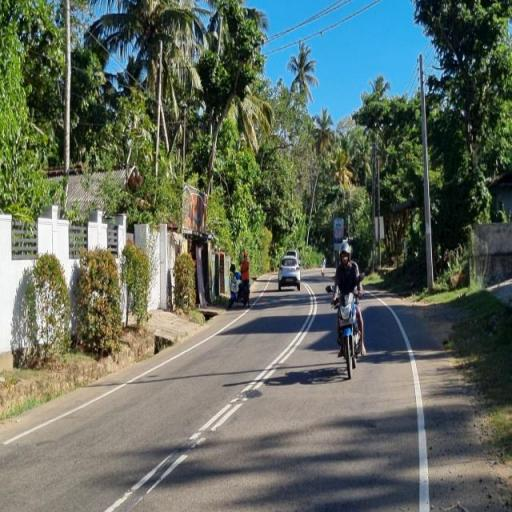double_white_line: (186, 282, 318, 440)
